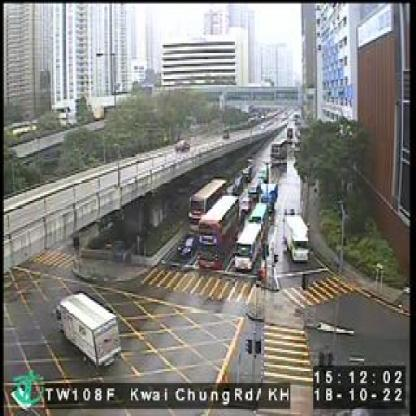Bus: (198, 196, 238, 268), (188, 175, 227, 235), (234, 219, 266, 271), (271, 137, 289, 168)
Car: (176, 233, 196, 260), (227, 174, 245, 199), (246, 181, 262, 202), (264, 185, 278, 208), (242, 160, 258, 180), (239, 195, 255, 214), (256, 166, 270, 183)
Minibus: (250, 203, 270, 229)
Truck: (55, 293, 122, 368), (282, 213, 311, 262), (261, 180, 280, 206)
